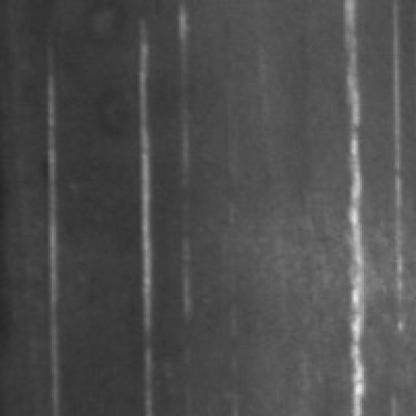scratches: (342, 0, 376, 412), (132, 29, 166, 414), (44, 46, 68, 414)
